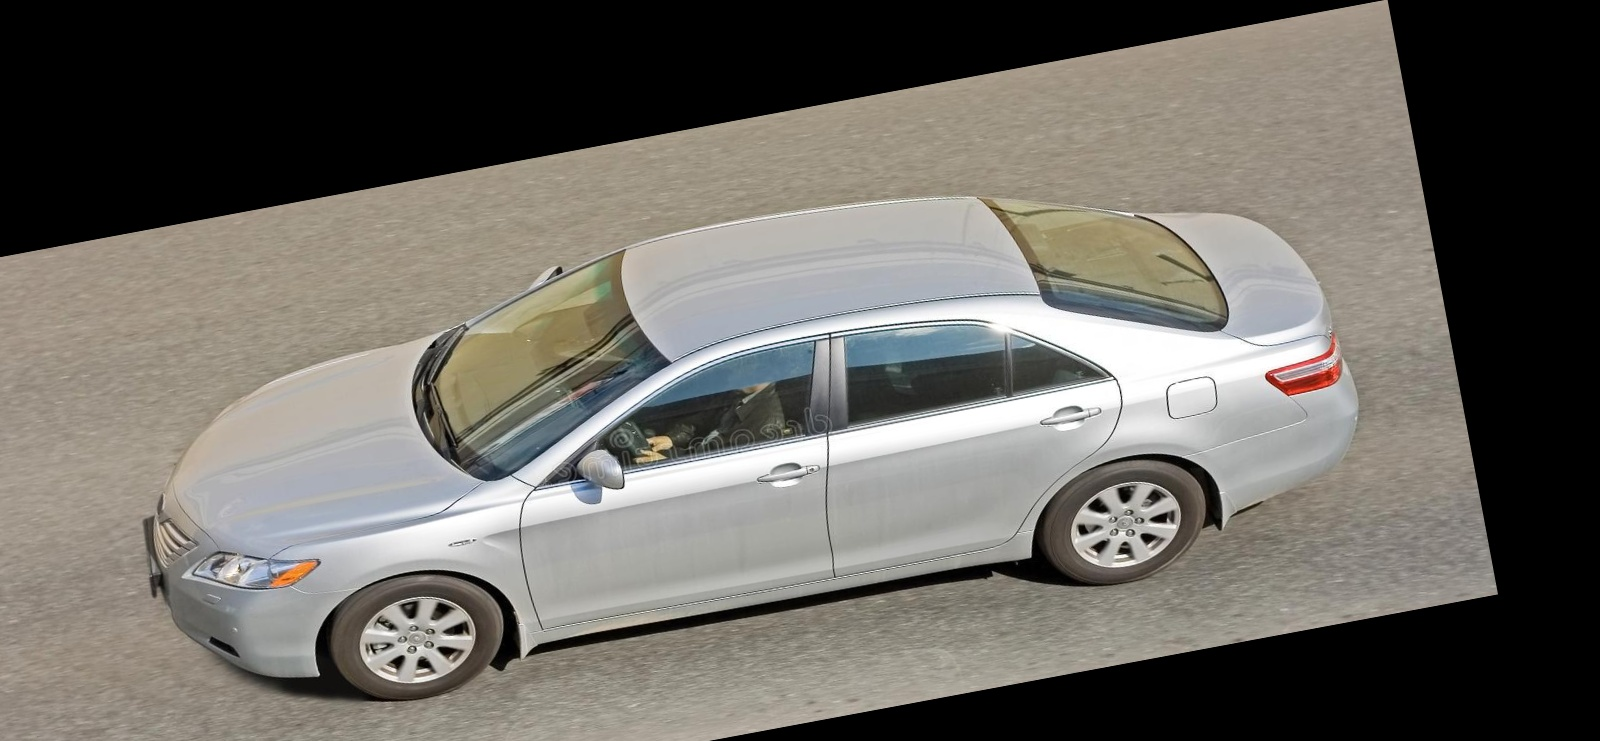car: (67, 82, 1437, 741)
